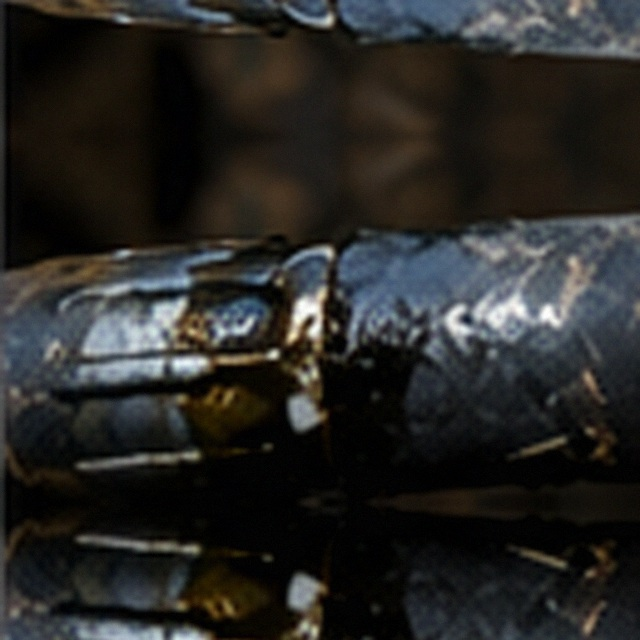hydraulic_oil_leak: (221, 201, 433, 420)
